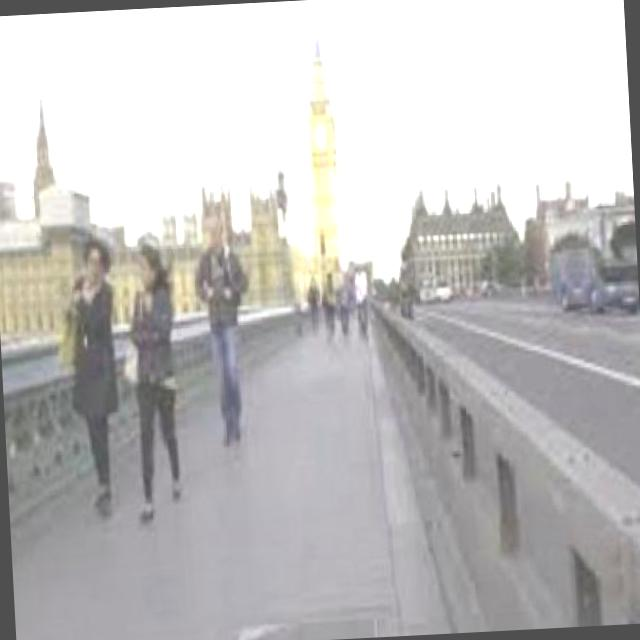Person: (115, 229, 198, 522), (56, 232, 126, 518), (192, 214, 260, 446)
